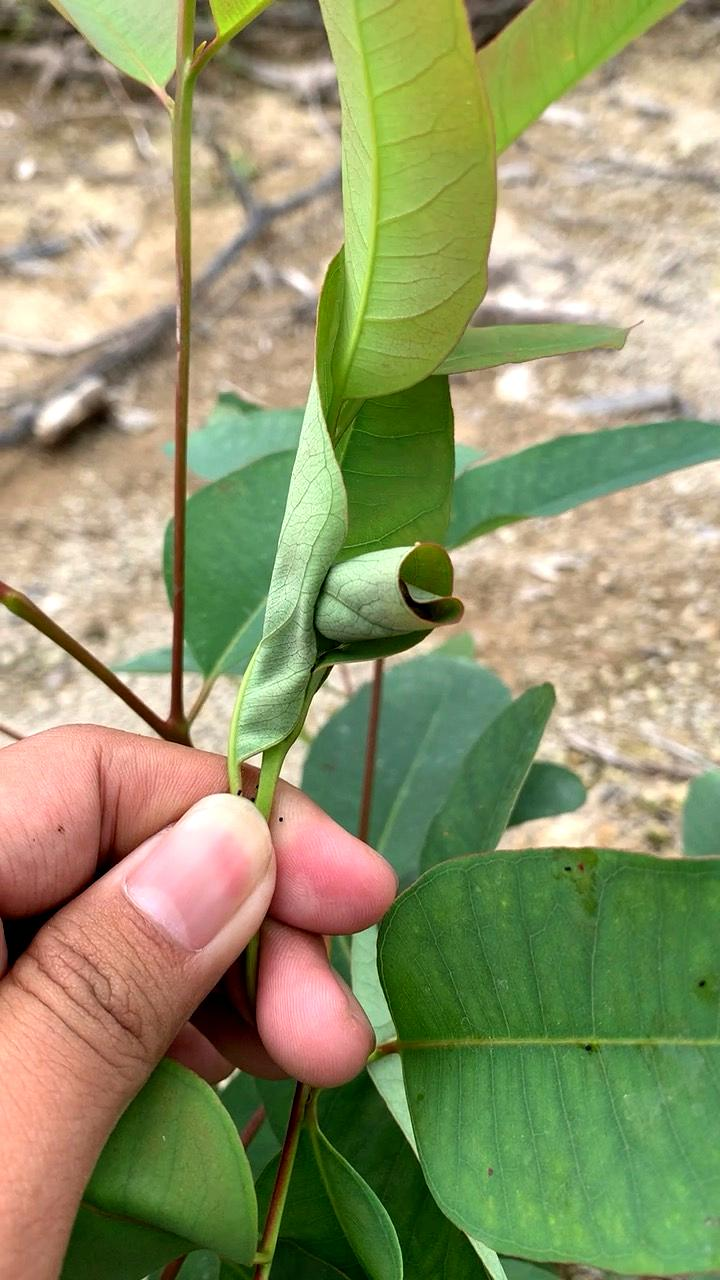Leaf Roller - Leaf: (225, 503, 506, 702)
